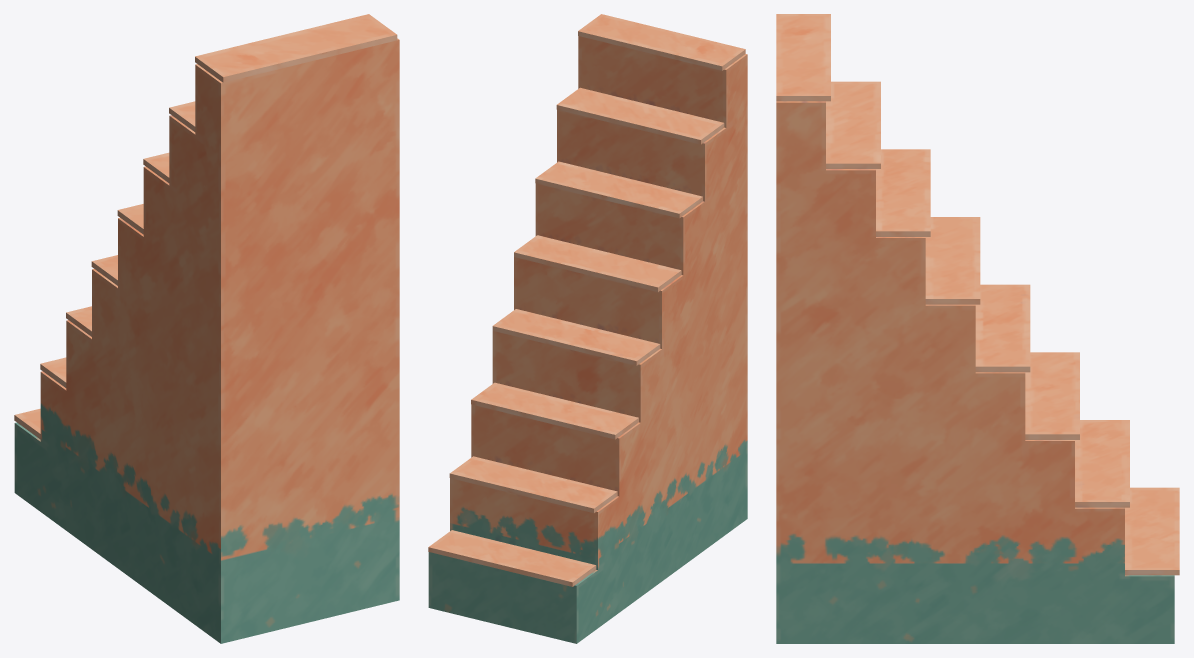
File: stairs_narrow.bundle.fbx
3 renders of one model, left to right at view 1: azimuth 30°, elevation 25°; view 2: azimuth 150°, elevation 25°; view 3: azimuth 270°, elevation 25°, orthographic. The views are drawn at different scales.
Visible parts, largest first — view 1: stairs_narrow, stairs_narrow_s05, stairs_narrow_s04, stairs_narrow_s03, stairs_narrow_s00, stairs_narrow_low; view 2: stairs_narrow, stairs_narrow_low, stairs_narrow_s04, stairs_narrow_s03, stairs_narrow_s02, stairs_narrow_s00, stairs_narrow_s05, stairs_narrow_s01; view 3: stairs_narrow, stairs_narrow_s05, stairs_narrow_s00, stairs_narrow_low, stairs_narrow_s03, stairs_narrow_s02, stairs_narrow_s04, stairs_narrow_s01.
Part boxes in pixels (<box>): stairs_narrow: <box>14,15,399,643</box>; stairs_narrow_s05: <box>144,237,399,643</box>; stairs_narrow_s04: <box>143,40,399,259</box>; stairs_narrow_s03: <box>14,281,158,597</box>; stairs_narrow_s00: <box>92,133,399,352</box>; stairs_narrow_low: <box>14,14,397,439</box>; stairs_narrow: <box>428,15,747,643</box>; stairs_narrow_low: <box>428,14,745,586</box>; stairs_narrow_s04: <box>578,36,747,264</box>; stairs_narrow_s03: <box>450,406,676,613</box>; stairs_narrow_s02: <box>428,488,582,643</box>; stairs_narrow_s00: <box>469,208,683,463</box>; stairs_narrow_s05: <box>689,200,747,556</box>; stairs_narrow_s01: <box>537,79,632,225</box>; stairs_narrow: <box>776,14,1177,643</box>; stairs_narrow_s05: <box>776,296,978,643</box>; stairs_narrow_s00: <box>776,194,1105,541</box>; stairs_narrow_low: <box>776,14,1179,575</box>; stairs_narrow_s03: <box>989,353,1177,597</box>; stairs_narrow_s02: <box>1052,505,1177,643</box>; stairs_narrow_s04: <box>776,102,925,194</box>; stairs_narrow_s01: <box>777,155,929,260</box>.
Bounding box in the file's own units: 4 × 12.12 × 8.1.
Materials: 1 (1 with a texture image).
